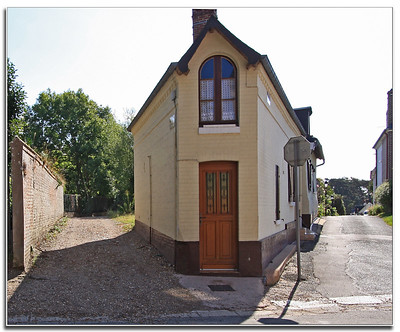low: (127, 17, 323, 277)
